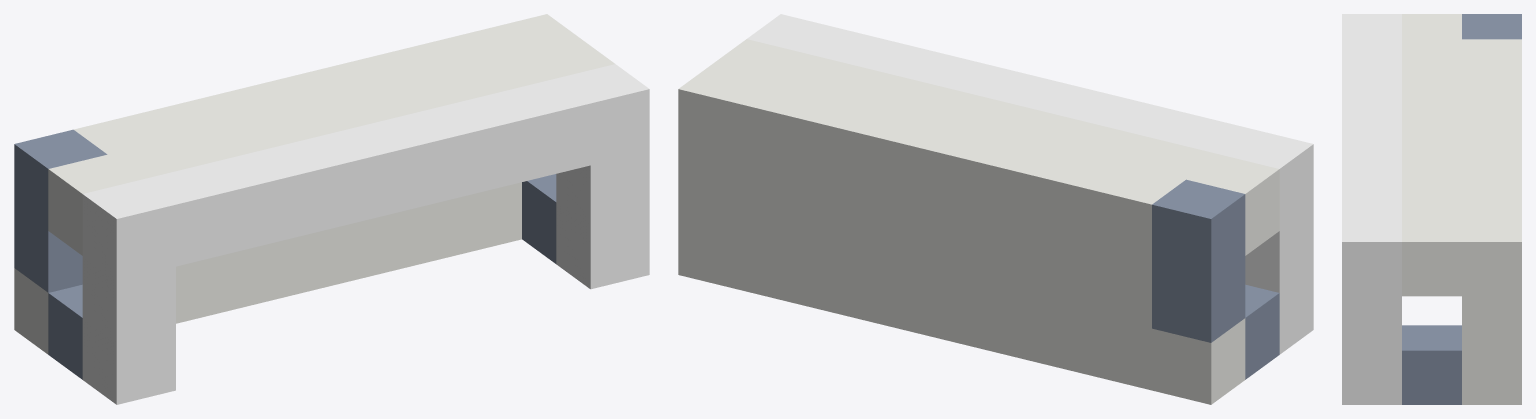
File: goal_soccer.glb
The picture shows the model from 3 angles, left to right: view 1: azimuth 30°, elevation 25°; view 2: azimuth 150°, elevation 25°; view 3: azimuth 270°, elevation 25°; orthographic projection. The views are drawn at different scales.
Parts seen in each view (by area): view 1: goal_soccer_white, goal_soccer_offwhite, goal_soccer_metal; view 2: goal_soccer_offwhite, goal_soccer_white, goal_soccer_metal; view 3: goal_soccer_offwhite, goal_soccer_white, goal_soccer_metal.
Part boxes in pixels (box(x1,y1,x2,y2)): goal_soccer_white: box(82, 64, 649, 404); goal_soccer_offwhite: box(14, 14, 614, 354); goal_soccer_metal: box(14, 129, 556, 379); goal_soccer_offwhite: box(678, 39, 1279, 404); goal_soccer_white: box(747, 14, 1313, 354); goal_soccer_metal: box(1152, 179, 1279, 379); goal_soccer_offwhite: box(1402, 14, 1521, 404); goal_soccer_white: box(1342, 14, 1401, 404); goal_soccer_metal: box(1402, 14, 1521, 404).
Bounding box in the file's own units: 9.05 × 3.02 × 3.01.
